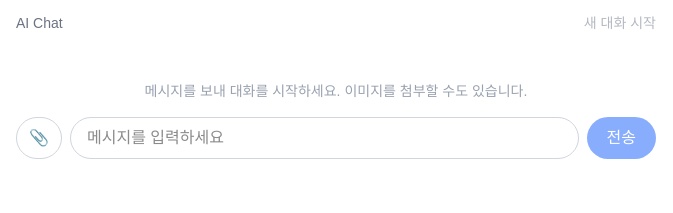
ChatApp › sends a message and streams the assistant reply in
Type "hi" into the field with placeholder "메시지를 입력하세요" at [324, 138], box [70,117,579,159]
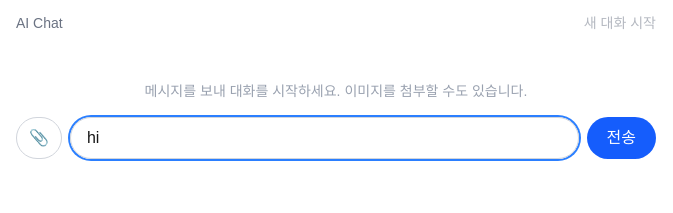
Click the button "전송" at [621, 138], box [586,117,656,159]
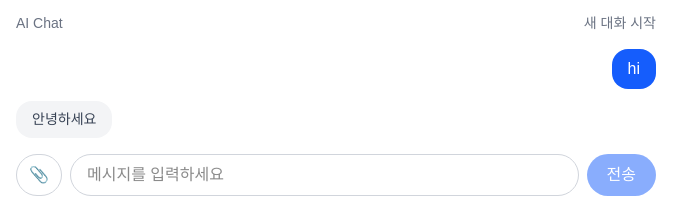
Result: the field with placeholder "메시지를 입력하세요" is empty at [70,154,579,196]
Result: the text "안녕하세요" is shown at [32,109,96,130]
